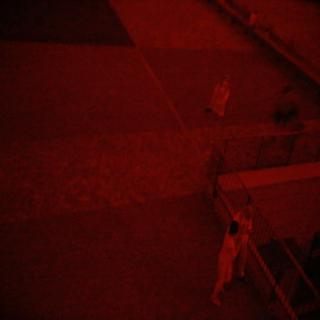person: (214, 216, 244, 309), (202, 71, 235, 155)
